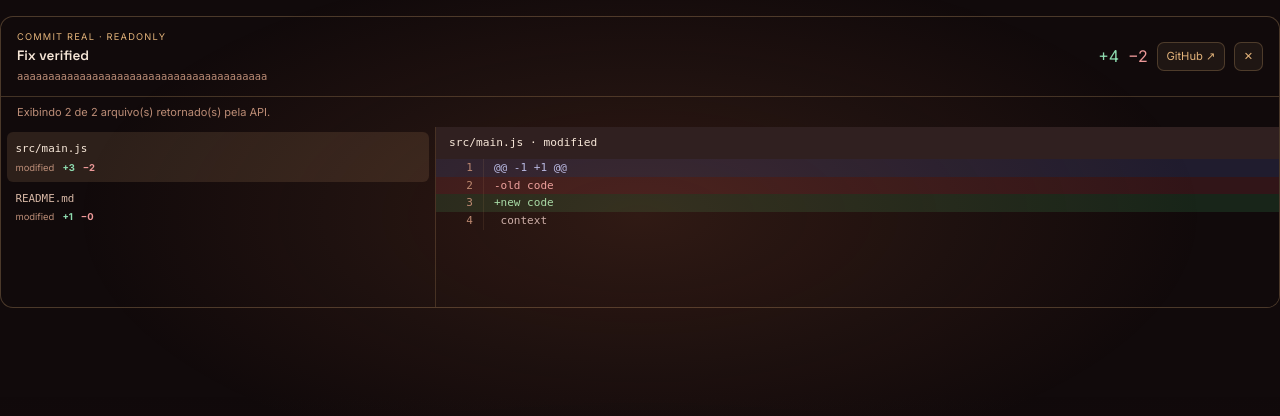
Test: read-only structured Git diff › navigates files, colors patch lines and escapes untrusted text
Expected: the element with class "git-patch-remove" shows "-old code", x1=494 y1=179 x2=554 y2=192
Expected: the element with class "git-patch-add" shows "+new code", x1=494 y1=196 x2=554 y2=209
Click the button "README.md modified +1 −0": (45, 198) x1=7 y1=182 x2=429 y2=231
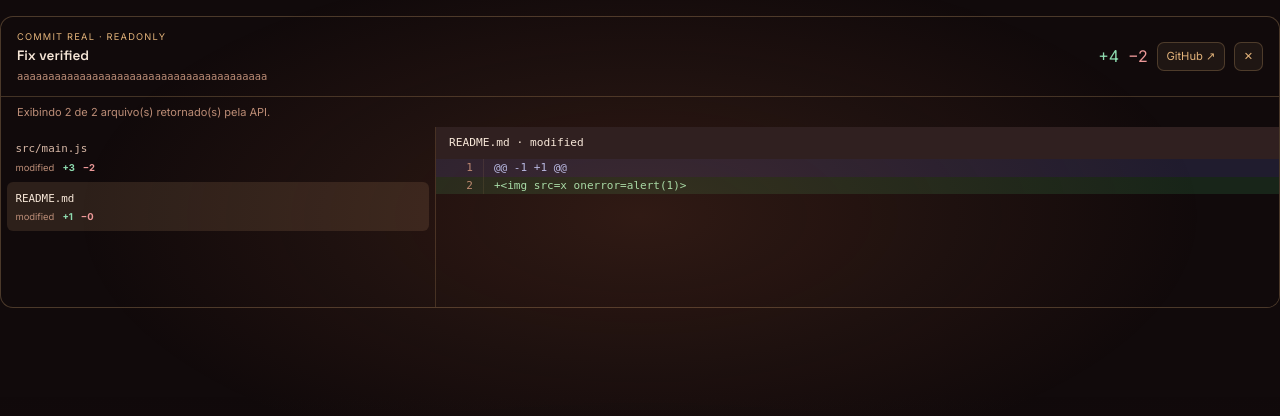
Now the element with class "git-diff-patch" shows "<img src=x onerror=alert(1)>", box x1=494 y1=179 x2=686 y2=192
